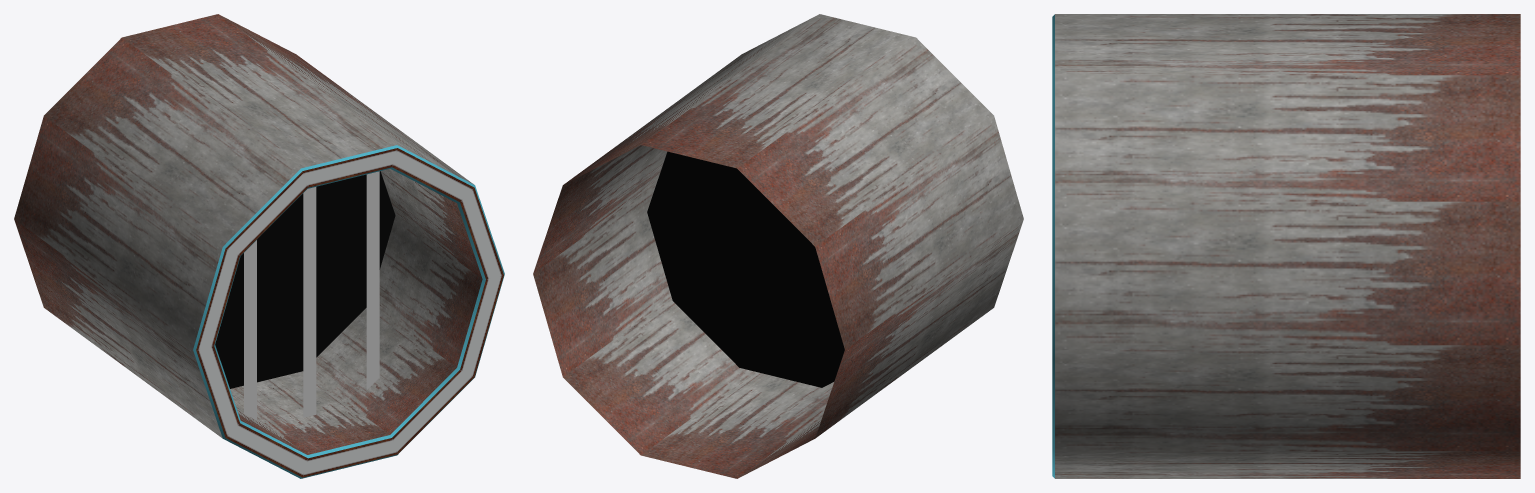
The model's file is TempleBaseDetail02_Art.glb.
3 renders of one model, left to right at view 1: azimuth 30°, elevation 25°; view 2: azimuth 150°, elevation 25°; view 3: azimuth 270°, elevation 25°, orthographic. The views are drawn at different scales.
Parts seen in each view (by area): view 1: TempleBaseDetail02_Art; view 2: TempleBaseDetail02_Art; view 3: TempleBaseDetail02_Art.
Part boxes in pixels (<box>): TempleBaseDetail02_Art: <box>14,14,504,478</box>; TempleBaseDetail02_Art: <box>533,14,1023,478</box>; TempleBaseDetail02_Art: <box>1052,14,1520,478</box>.
Size of the model in its own units: 2.7 by 2.57 by 2.7.
Materials: 2 (2 with a texture image).
